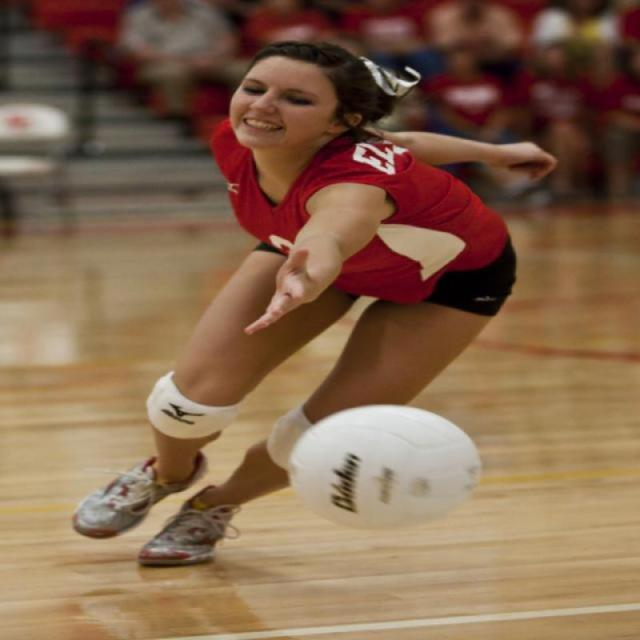volleyball: (283, 401, 487, 534)
